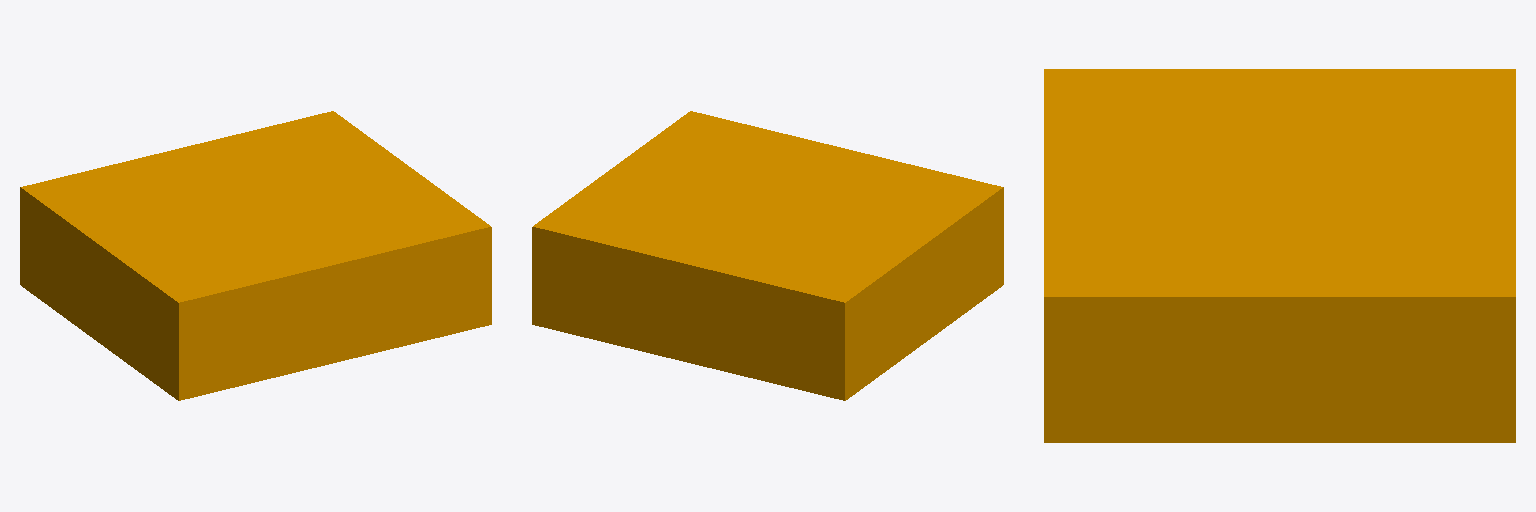
URDF robot description (2x2):
<?xml version='1.0' encoding='UTF-8'?>
<robot name="2x2">
  <link name="base_link">
    <inertial>
      <origin xyz="0.0 0.0 0.0" rpy="0.0 0.0 0.0"/>
      <mass value="0.01"/>
      <inertia ixx="0.1" ixy="0.0" ixz="0.0" iyy="0.1" iyz="0.0" izz="0.1"/>
    </inertial>
    <visual>
      <geometry>
        <box size="0.04  0.035 0.012"/>
      </geometry>
      <material name=""/>
      <origin xyz="0.0 0.0 0.0" rpy="0.0 0.0 0.0"/>
    </visual>
    <collision>
      <geometry>
        <box size="0.04  0.035 0.012"/>
      </geometry>
      <origin xyz="0.0 0.0 0.0" rpy="0.0 0.0 0.0"/>
    </collision>
  </link>
  <material name="">
    <color rgba="0.12  0.762 0.69  1.   "/>
  </material>
  <contact>
    <lateral_friction value="1.0"/>
    <rolling_friction value="0.0"/>
    <contact_cfm value="0.0"/>
    <contact_erp value="1.0"/>
  </contact>
</robot>

--- Facts derived from the render (not from the file) ---
Views: 3 orthographic renders of the robot side by side, from view 1: azimuth 30°, elevation 25°; view 2: azimuth 150°, elevation 25°; view 3: azimuth 270°, elevation 25°.
Model 2x2 with 1 links and 0 joints (none), rooted at base_link, posed all joints at 0.
Links seen in each view (by area): view 1: base_link; view 2: base_link; view 3: base_link.
Link boxes in pixels (x1,y1,x2,y2): base_link: [20, 111, 491, 400]; base_link: [532, 111, 1003, 400]; base_link: [1044, 69, 1515, 442].
Size in the robot's own frame: 0.04 by 0.035 by 0.012 metres.
Geometry: primitives only (box / cylinder / sphere), no mesh files.